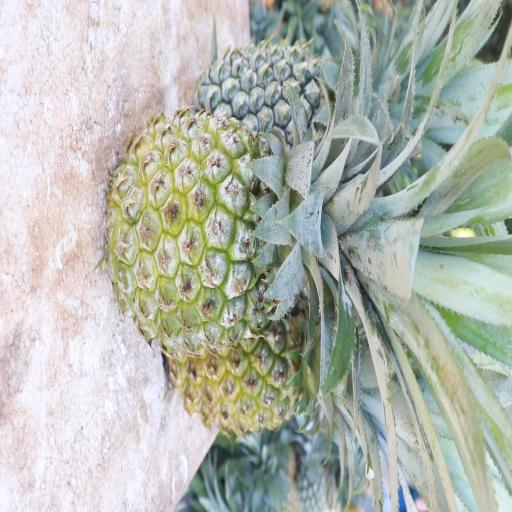------------------------------: (102, 106, 404, 358)
Pineapple - v8 v1: (159, 236, 394, 446)
